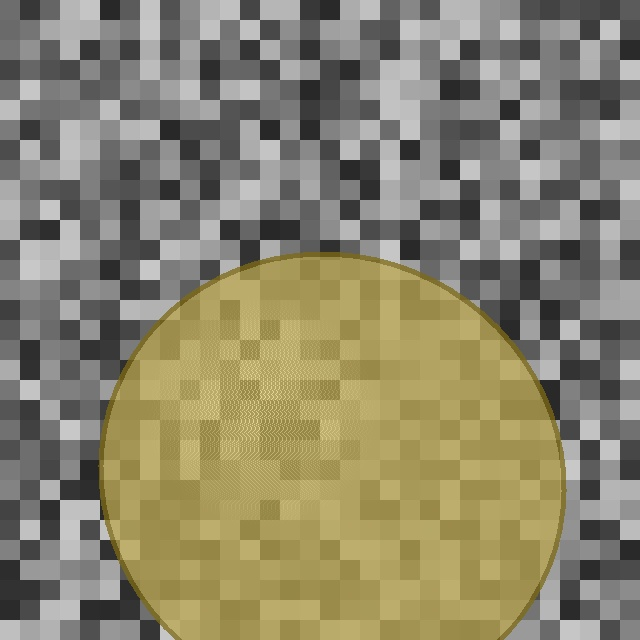lens: (101, 254, 563, 640)
